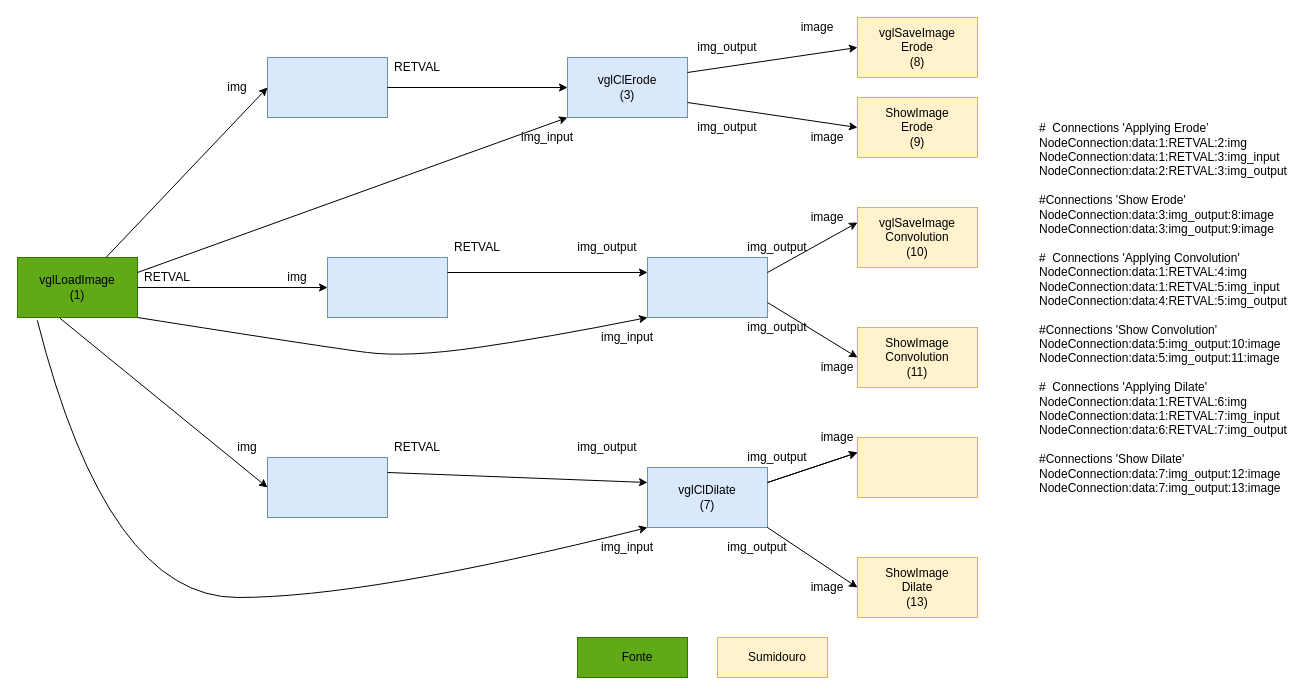
Some shapes in this 1305 by 695 pixel diagram are drawn without their labels. The shapes that lost their labels are listed below. From the top down, each one's centre as x and y in pixels, then its label:
At (327,87): "CreateImage Erode (2)".
At (387,287): "CreateImage Convolution (4)".
At (707,287): "vglClConvolution (5)".
At (327,487): "CreateImage Dilate (6)".
At (917,467): "vglSaveImage Dilate (12)".
